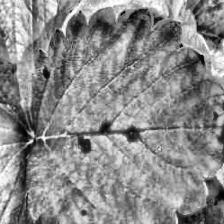Leaf Spot: (24, 7, 224, 224), (0, 0, 103, 136), (0, 101, 80, 224), (182, 0, 224, 69)
